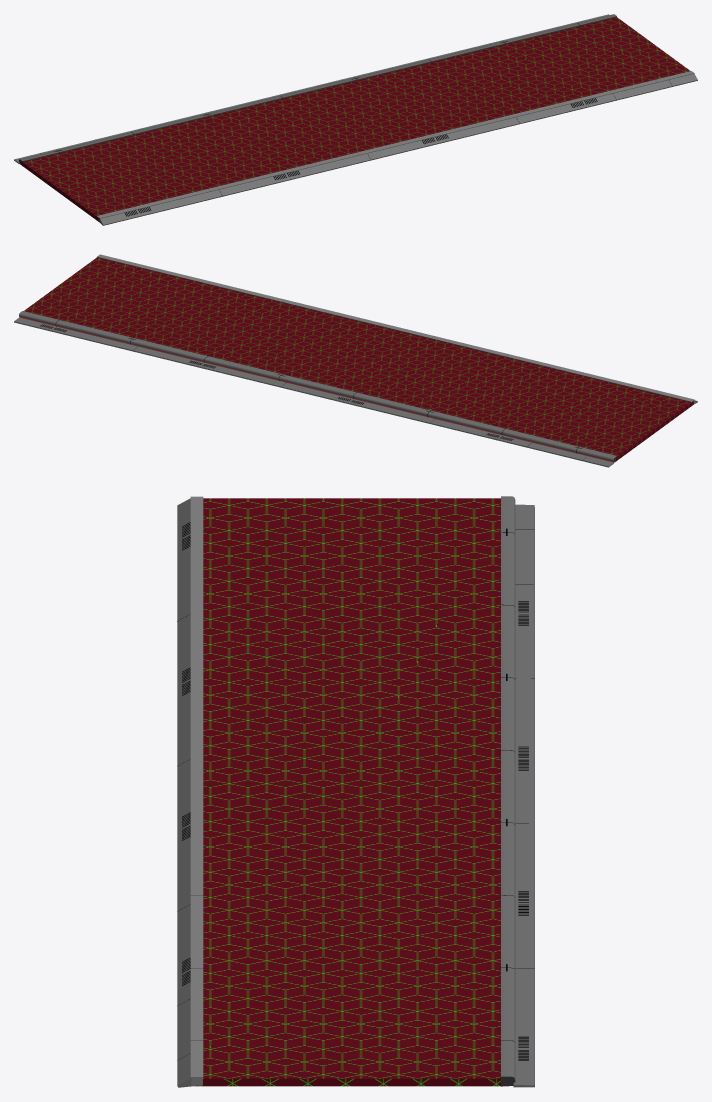
The model's file is Floor_add_02_straight_16m.fbx.
3 renders of one model, top to bottom at view 1: azimuth 30°, elevation 25°; view 2: azimuth 150°, elevation 25°; view 3: azimuth 270°, elevation 25°, orthographic. The views are drawn at different scales.
Visible parts, largest first — view 1: Floor_add_02_straight_16m; view 2: Floor_add_02_straight_16m; view 3: Floor_add_02_straight_16m.
Boxes of the visible parts, x1,y1,x2,y2 form: Floor_add_02_straight_16m: [14, 14, 697, 225]; Floor_add_02_straight_16m: [14, 254, 697, 467]; Floor_add_02_straight_16m: [177, 496, 534, 1087].
Bounding box in the file's own units: 16 × 0.1475 × 4.17.
